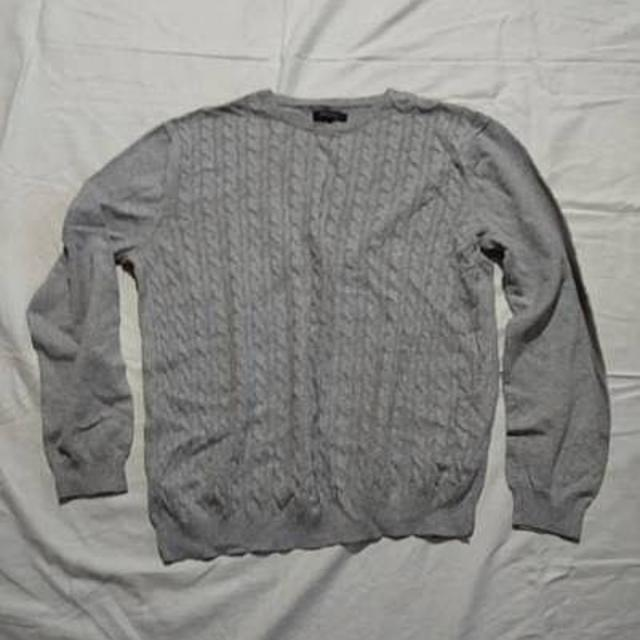SHIRT: (18, 85, 634, 570)
